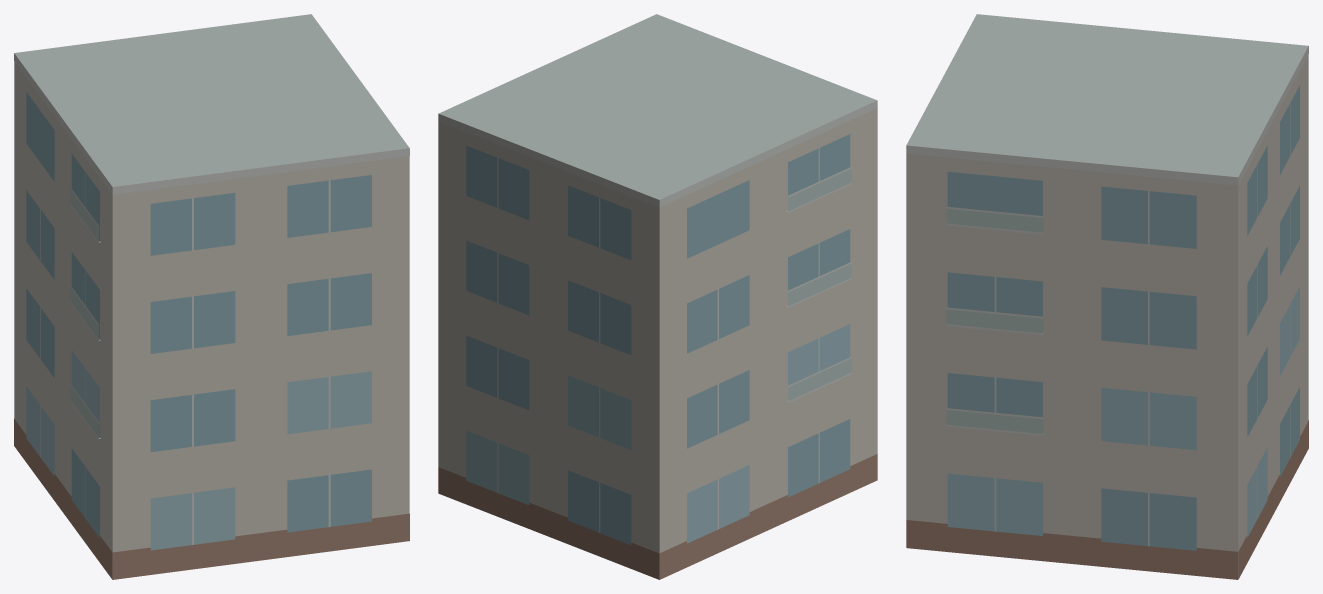
The model's file is residential-4cbca3b2-0a8e-4be8-82f5-1ad542458e90.glb.
3 views of the same model, side by side, from view 1: azimuth 30°, elevation 25°; view 2: azimuth 150°, elevation 25°; view 3: azimuth 270°, elevation 25° (orthographic). The views are drawn at different scales.
Visible parts, largest first — view 1: residential-4cbca3b2-0a8e-4be8-82f5-1ad542458e90.tmp; view 2: residential-4cbca3b2-0a8e-4be8-82f5-1ad542458e90.tmp; view 3: residential-4cbca3b2-0a8e-4be8-82f5-1ad542458e90.tmp.
Part boxes in pixels (bbox=[...]): residential-4cbca3b2-0a8e-4be8-82f5-1ad542458e90.tmp: bbox=[14, 14, 409, 579]; residential-4cbca3b2-0a8e-4be8-82f5-1ad542458e90.tmp: bbox=[438, 14, 877, 579]; residential-4cbca3b2-0a8e-4be8-82f5-1ad542458e90.tmp: bbox=[906, 14, 1308, 579].
Bounding box in the file's own units: 10.62 × 12.2 × 11.07.
